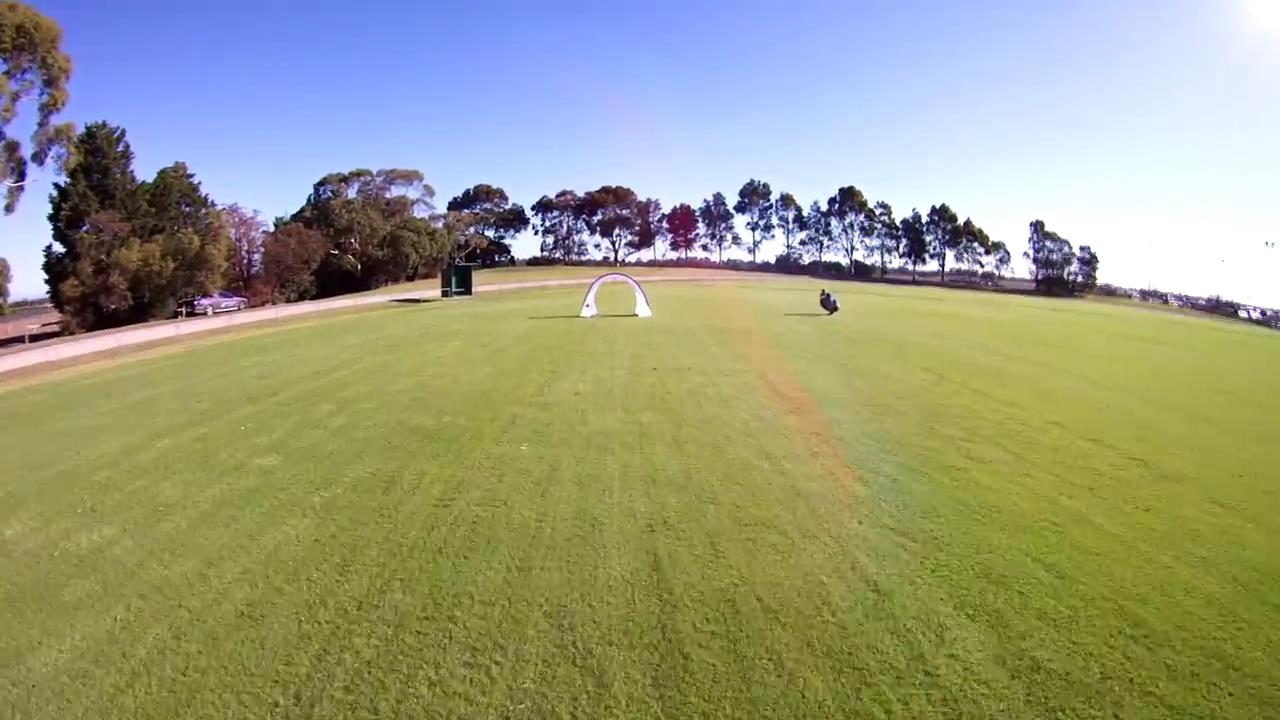gate: (580, 272, 653, 319)
